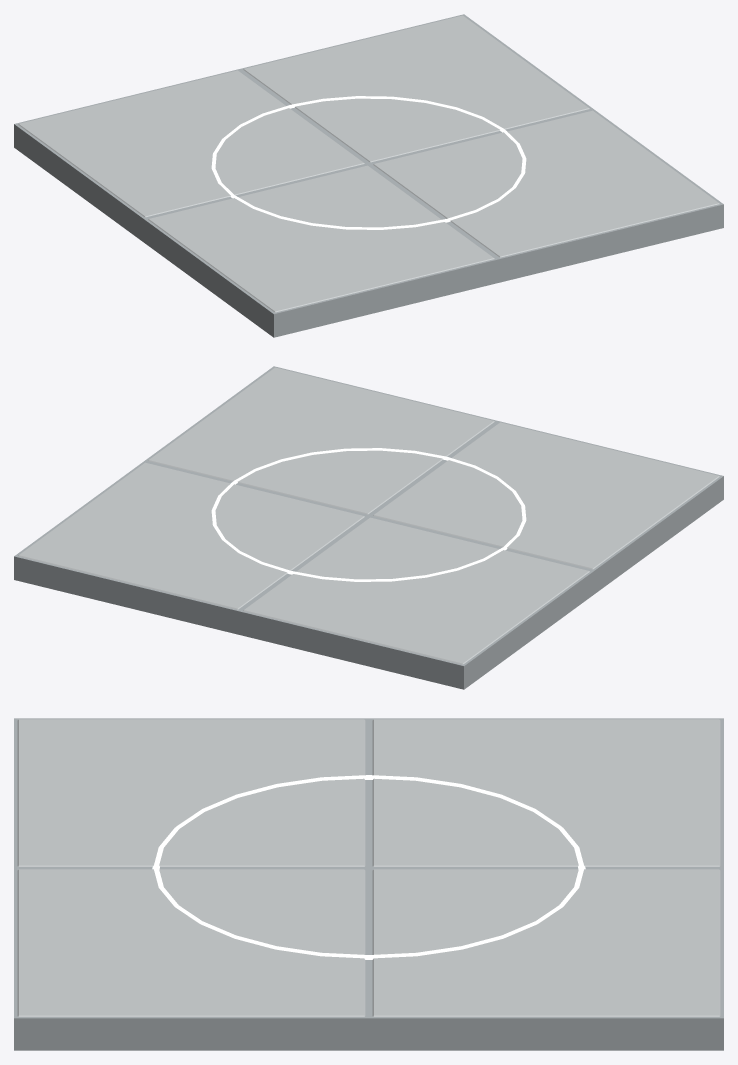
File: floor_an_ring.glb
3 renders of one model, top to bottom at view 1: azimuth 30°, elevation 25°; view 2: azimuth 150°, elevation 25°; view 3: azimuth 270°, elevation 25°, orthographic. The views are drawn at different scales.
Parts seen in each view (by area): view 1: floor_an_ring; view 2: floor_an_ring; view 3: floor_an_ring.
Boxes of the visible parts, x1=… form: floor_an_ring: x1=14, y1=14, x2=723, y2=337; floor_an_ring: x1=14, y1=366, x2=723, y2=689; floor_an_ring: x1=14, y1=718, x2=723, y2=1050.
Bounding box in the file's own units: 4 × 0.221 × 4.
